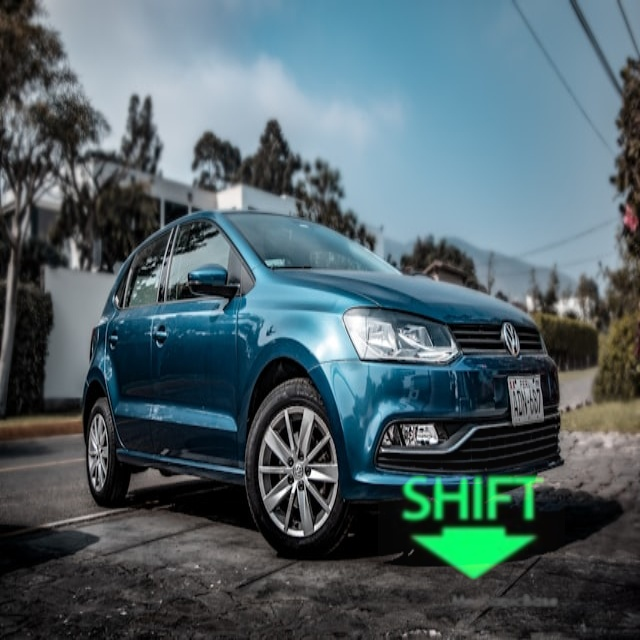symbol: (378, 429, 565, 616)
